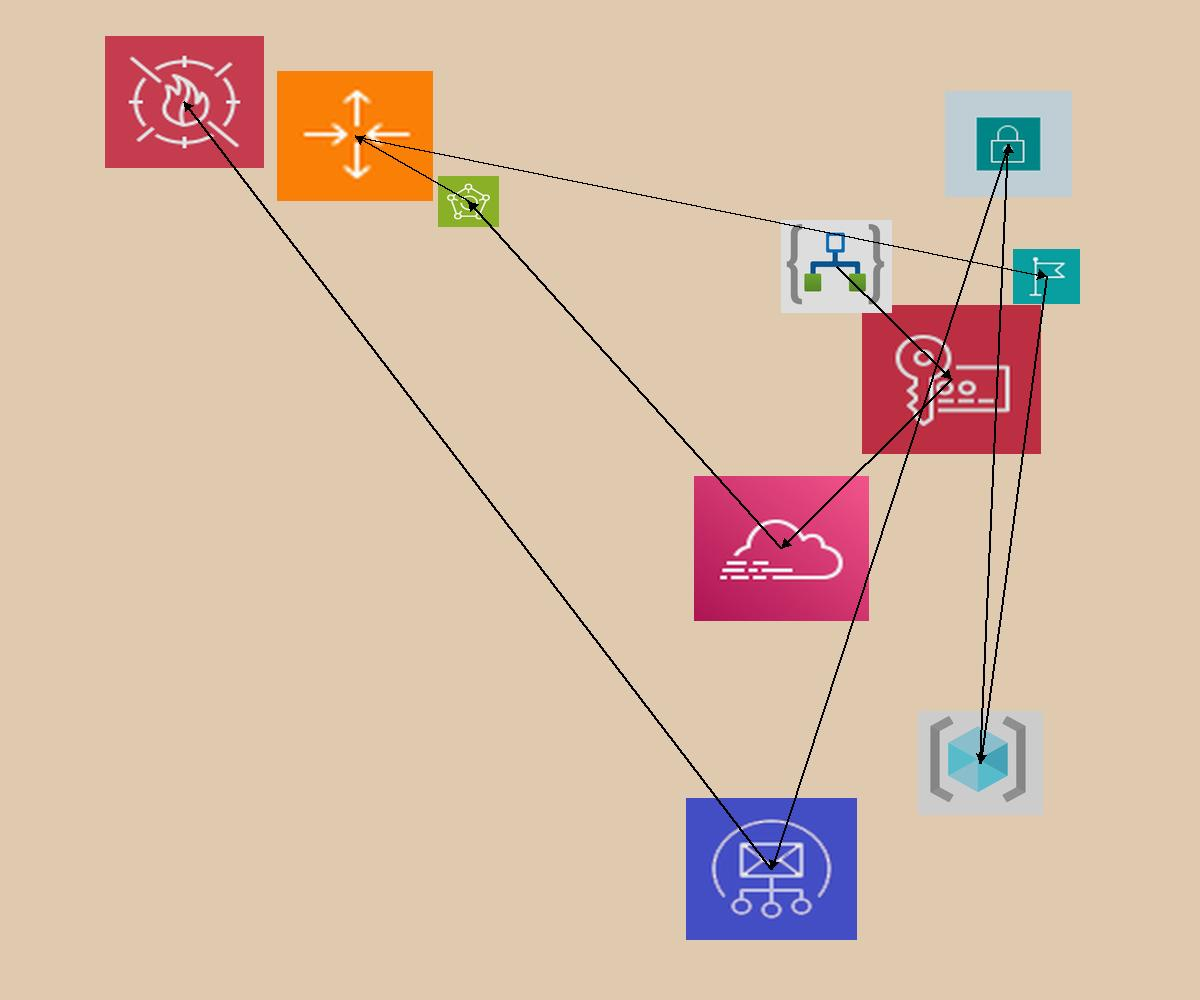AWS-Backup: (438, 176, 499, 227)
AWS-CloudTrail: (694, 476, 869, 621)
AWS-Key-Management-Service: (862, 305, 1041, 454)
AWS-Private-subnet: (945, 91, 1072, 197)
AWS-Region: (1013, 249, 1080, 304)
AWS-Scaling-group: (277, 71, 433, 201)
AWS-Simple-Email-Service: (686, 798, 857, 940)
AWS-WAF: (105, 36, 264, 168)
Azure_integration-204-Logic-Apps: (781, 220, 892, 313)
Azure_resource_group: (918, 711, 1043, 815)
